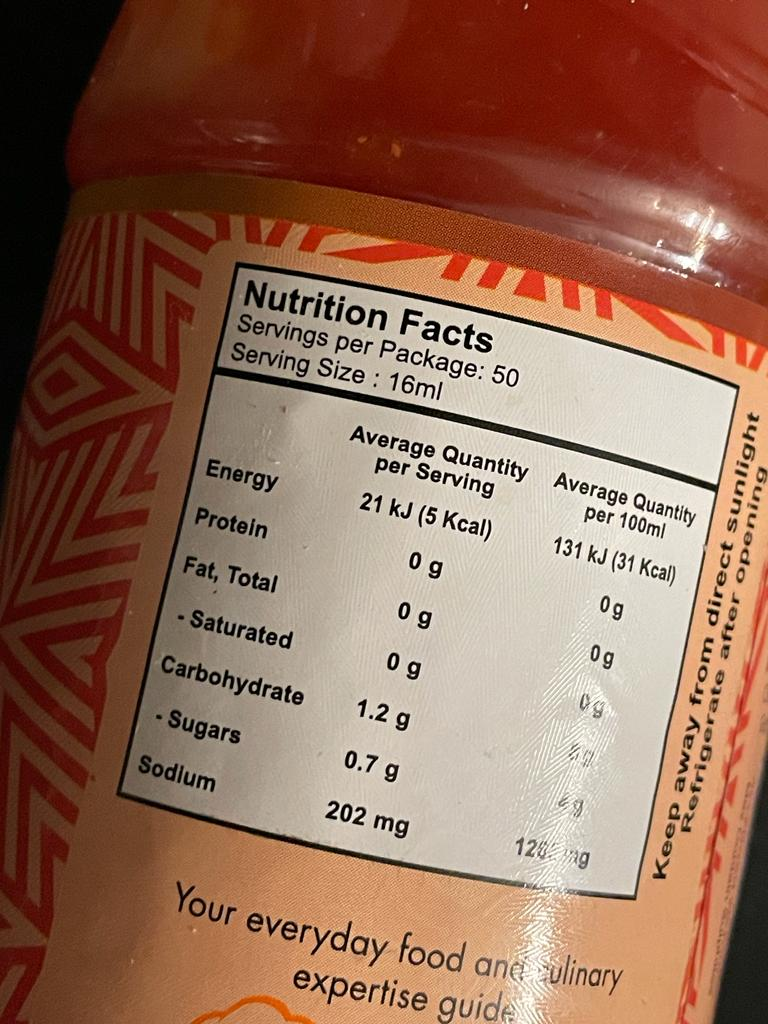table: (118, 228, 749, 911)
